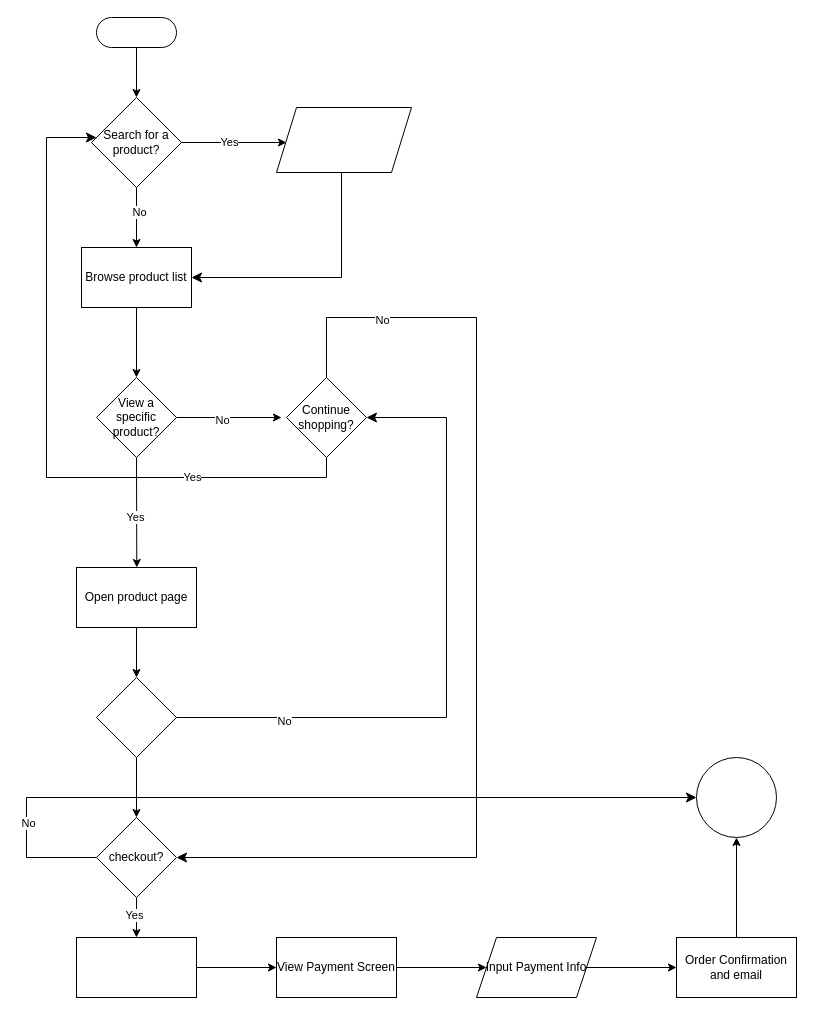
The diagram is 814 pixels wide and 1015 high, and some of its shapes have lost their labels. Each missing label, with the box of its shape:
Add to cart?: (96, 676, 176, 758)
End: (696, 756, 776, 838)
Input product name: (276, 106, 412, 172)
start: (96, 16, 176, 48)
View Cart: (76, 936, 196, 998)
